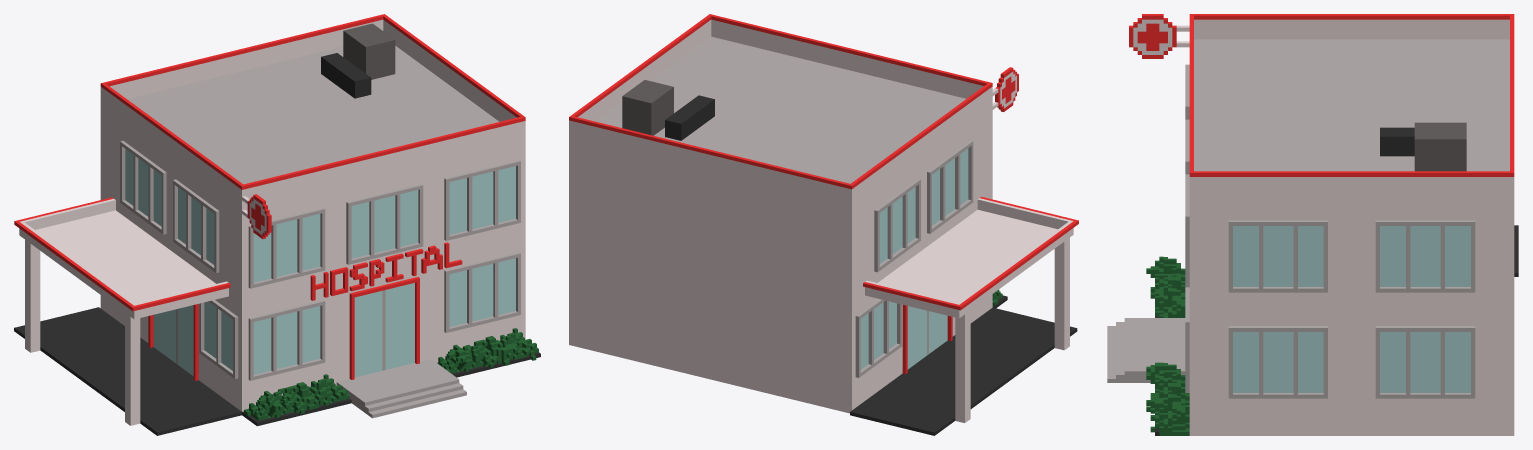
File: hospital_building.glb
3 views of the same model, side by side, from view 1: azimuth 30°, elevation 25°; view 2: azimuth 150°, elevation 25°; view 3: azimuth 270°, elevation 25° (orthographic). The views are drawn at different scales.
Visible parts, largest first — view 1: Object_2; view 2: Object_2; view 3: Object_2.
Part boxes in pixels (left/top/right/bottom): Object_2: left=14, top=14, right=540, bottom=435; Object_2: left=569, top=14, right=1078, bottom=435; Object_2: left=1107, top=14, right=1518, bottom=435.
Bounding box in the file's own units: 11.8 × 7.1 × 9.5.
1 material, 1 textured.
